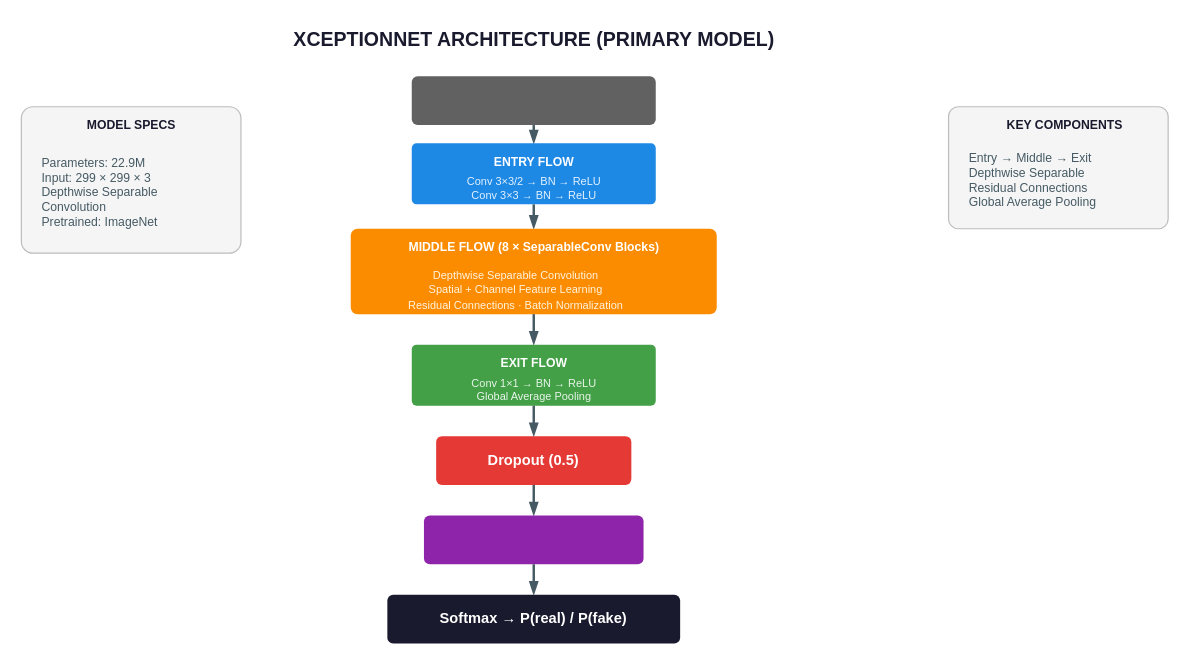
Image size: 1190x664. Some labels were removed from this diagram. Each missing label, with the box of its shape:
Input: 299 × 299 × 3: (411, 76, 655, 124)
Linear (2048 → 2): (423, 515, 643, 564)
